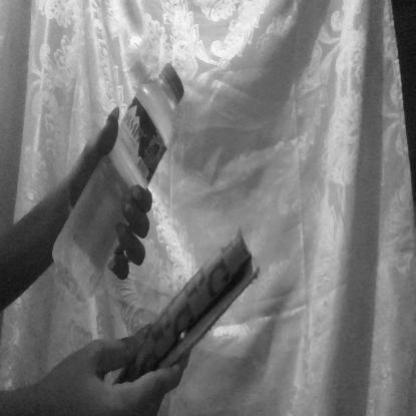Plastic Bottle: (37, 34, 189, 287)
